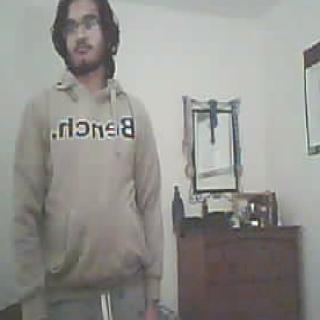Yellow Hoodie: (12, 73, 164, 297)
